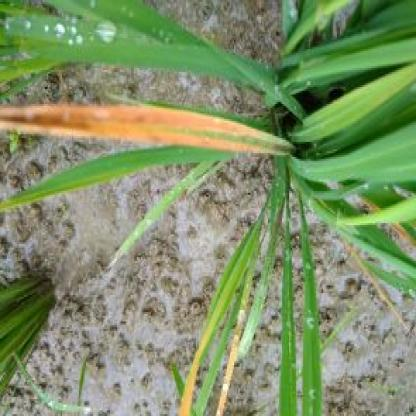Tungro: (3, 92, 279, 163)
